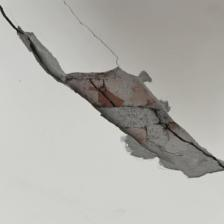Medium: (9, 14, 214, 182)
